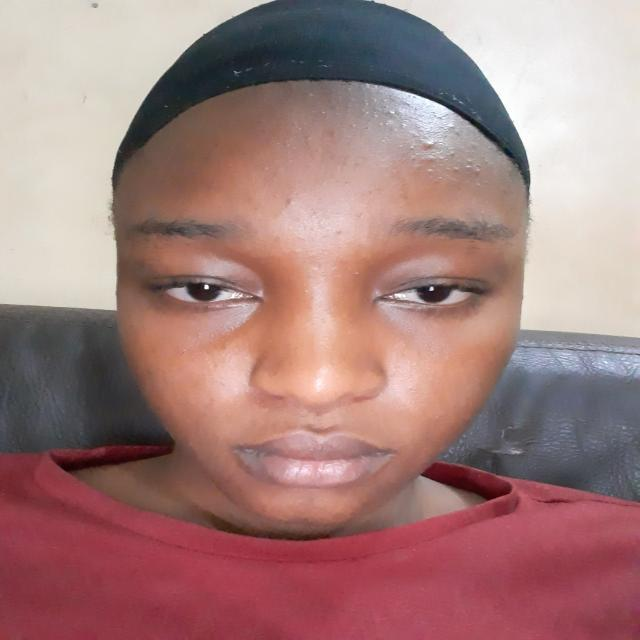Acne: (404, 130, 456, 162)
